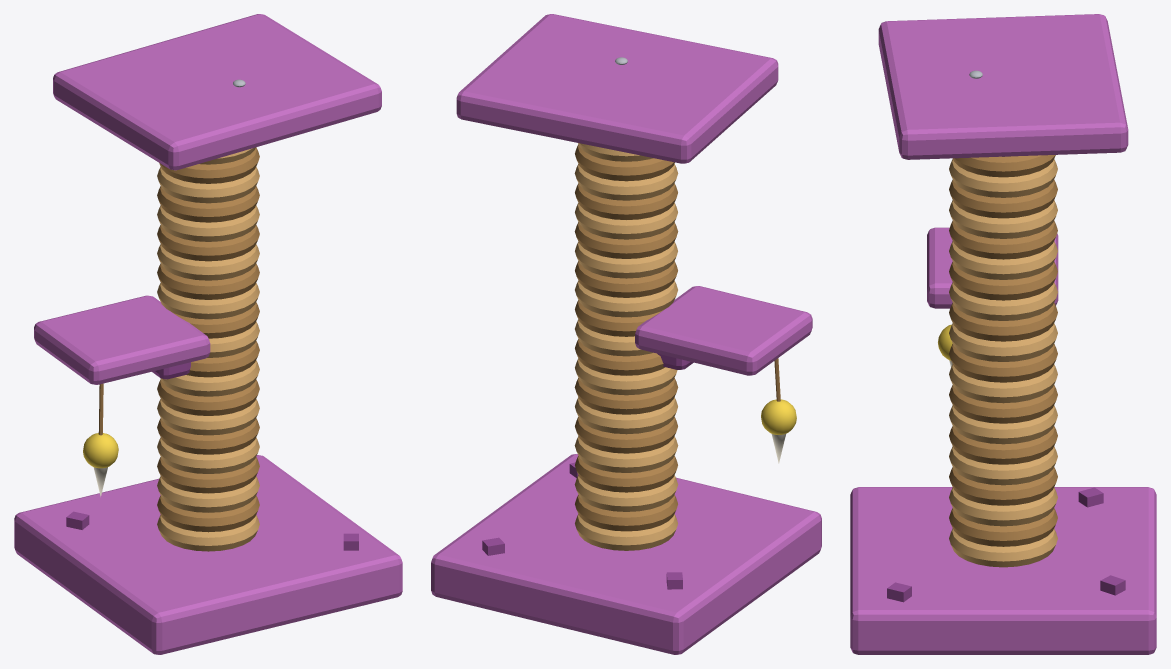
File: zc_scratch_post_ruin.mobile-mid.glb
3 renders of one model, left to right at view 1: azimuth 30°, elevation 25°; view 2: azimuth 150°, elevation 25°; view 3: azimuth 270°, elevation 25°, orthographic. The views are drawn at different scales.
Visible parts, largest first — view 1: zc_scratch_post_ruin; view 2: zc_scratch_post_ruin; view 3: zc_scratch_post_ruin.
Part boxes in pixels (<box>): zc_scratch_post_ruin: <box>14,14,402,654</box>; zc_scratch_post_ruin: <box>431,14,821,654</box>; zc_scratch_post_ruin: <box>850,14,1156,654</box>.
Size of the model in its own units: 0.6248 by 1.07 by 0.56.
Materials: 1 (1 with a texture image).
